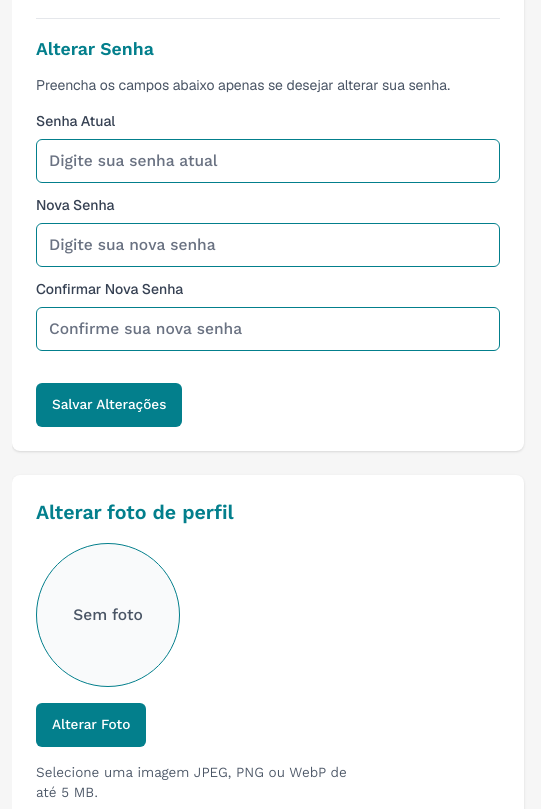
NET-08 NET-09 NET-10 salvar perfil e senha › ERR-12 NET-08 envelope de PATCH inválido não anuncia sucesso
(page scrolled)
Click the button "Salvar Alterações" at (109, 405), box [36,383,182,427]
(page scrolled)
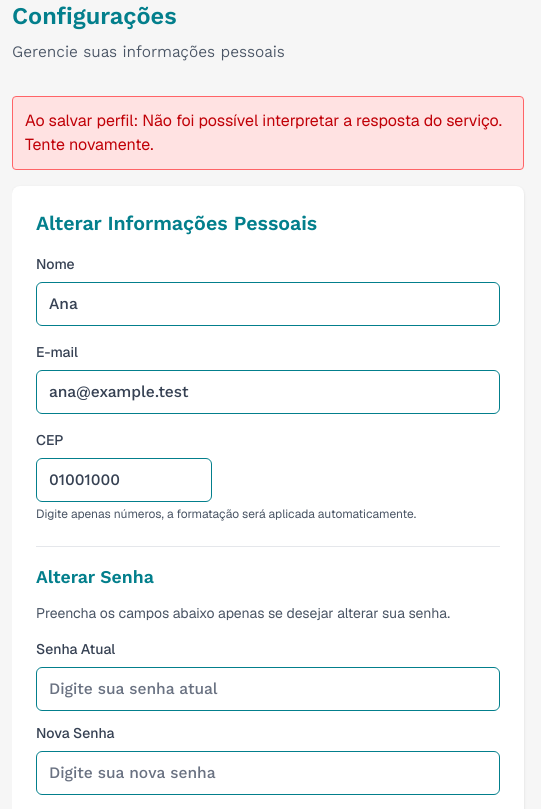
Expected: the message shows "Não foi possível interpretar a resposta do serviço. Tente novamente.", [25,110,502,155]
